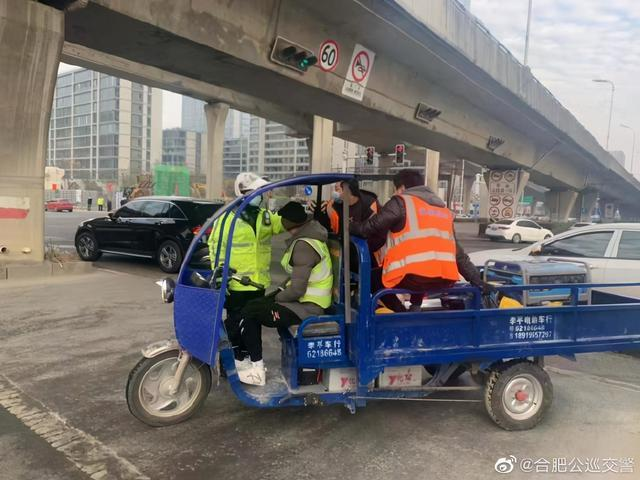overloading: (123, 176, 638, 434)
passenger: (248, 205, 351, 388), (368, 170, 475, 313), (322, 176, 379, 228)
